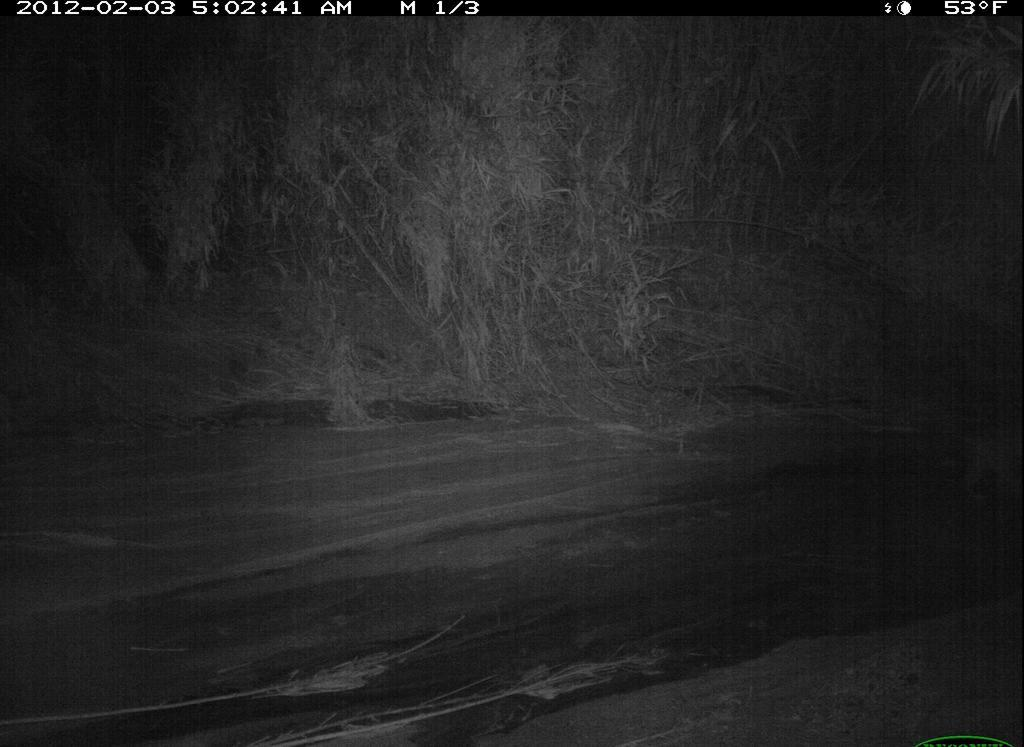bobcat: (944, 418, 1024, 507)
